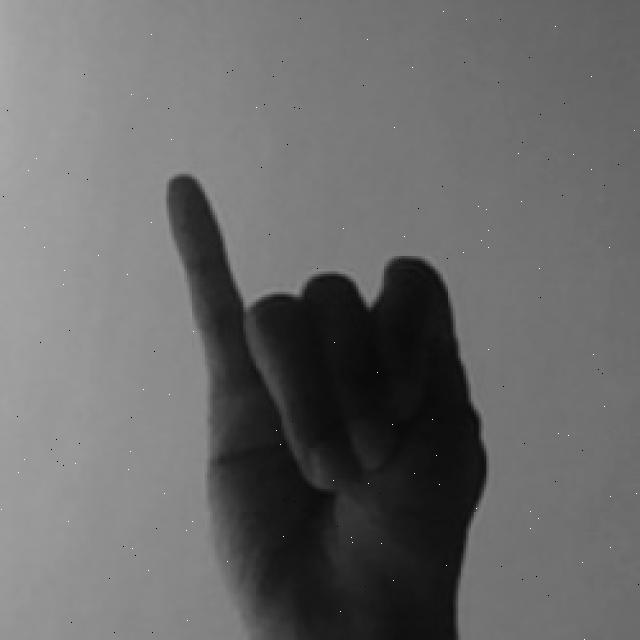I: (160, 165, 500, 640)
